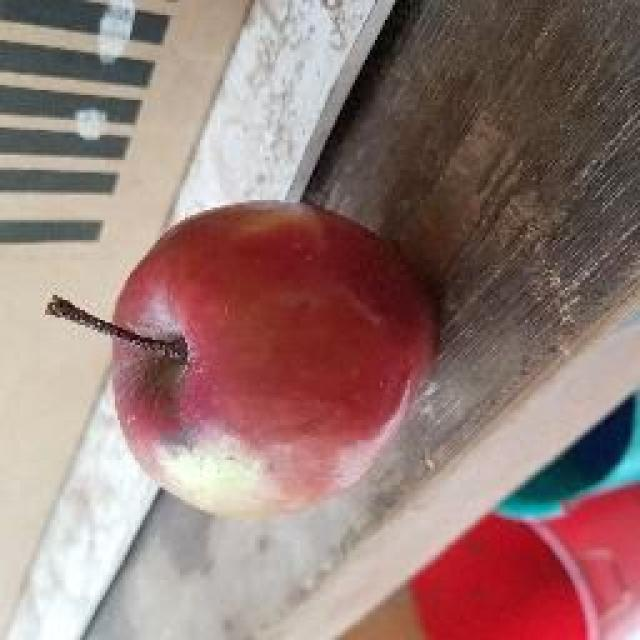Good_Apple: (50, 200, 442, 525)
